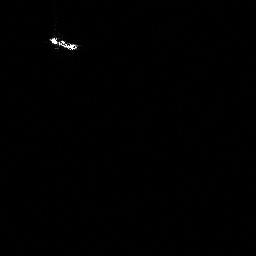ship: (46, 33, 80, 52)
